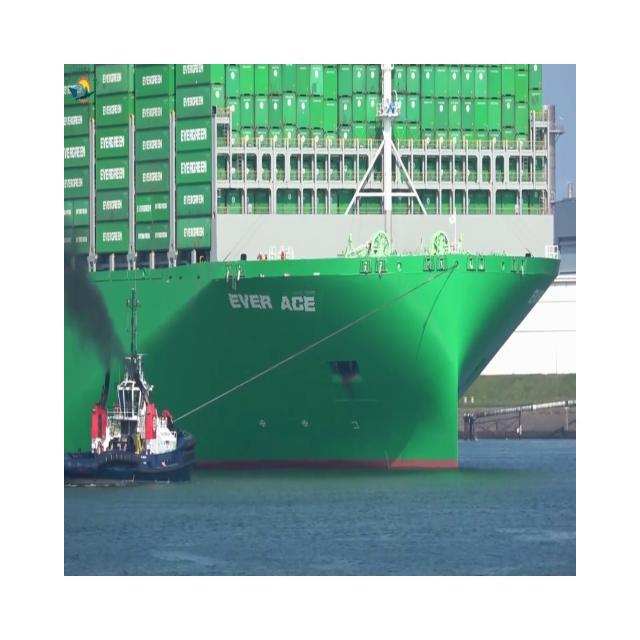OCR: (224, 284, 324, 321)
